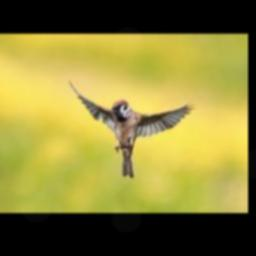Sparrow: (70, 80, 196, 178)
